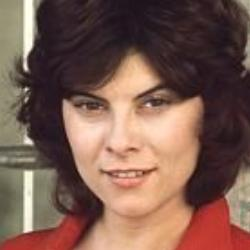face: (7, 2, 244, 222)
